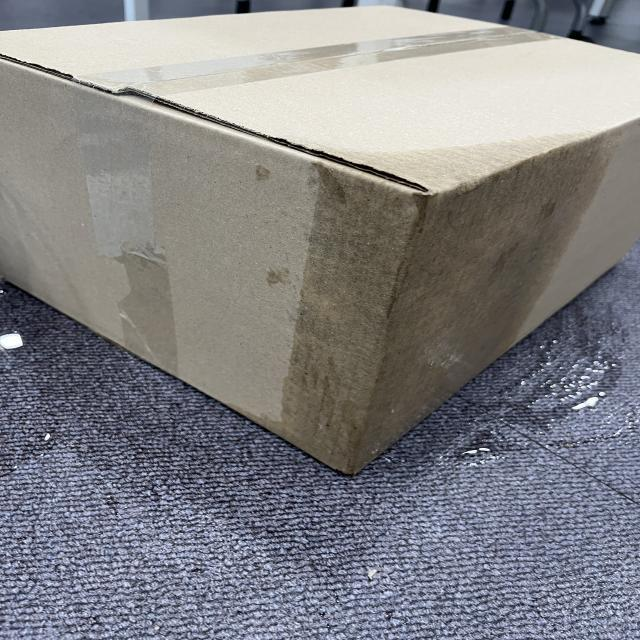wet: (242, 129, 615, 469)
